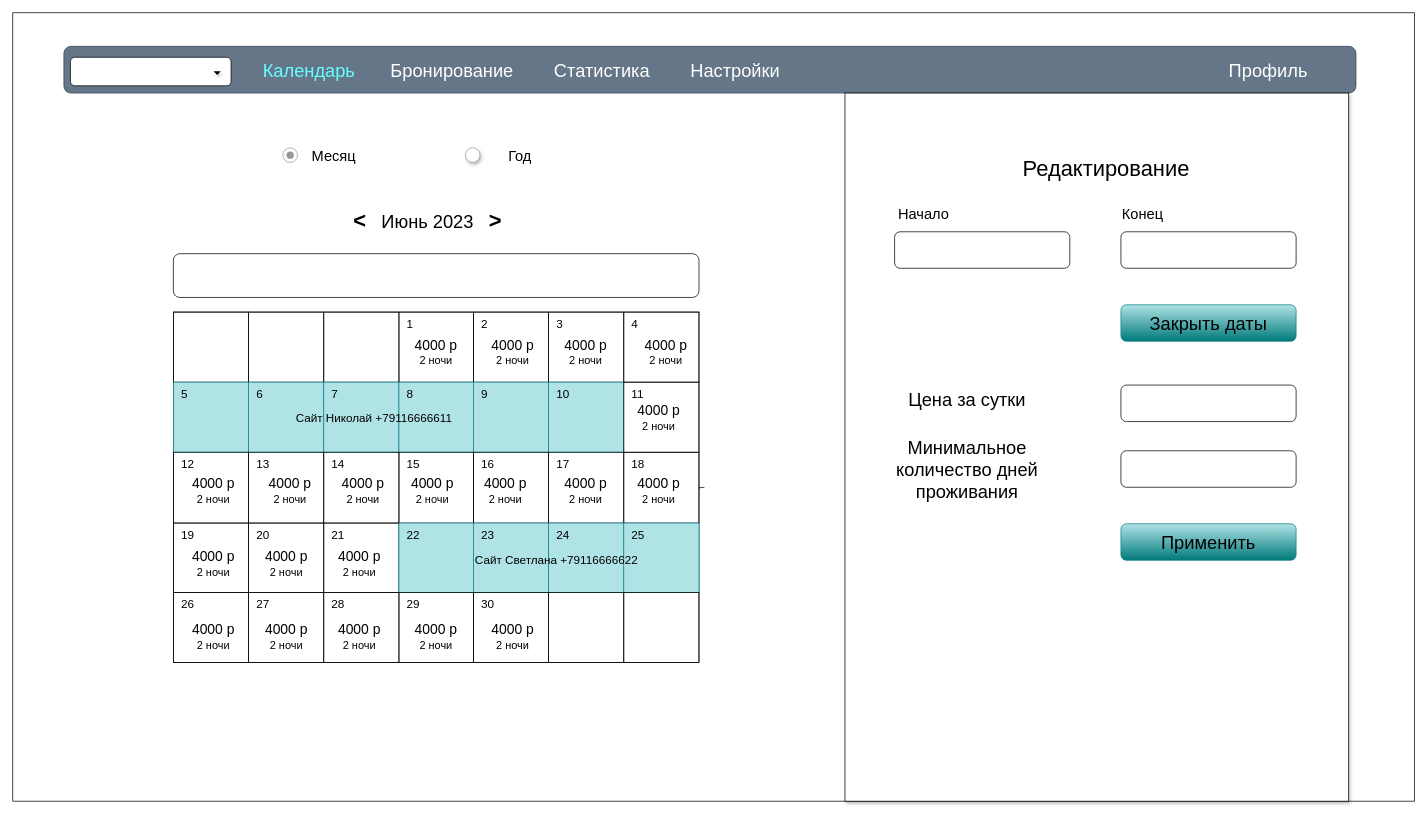
Image size: 1427x819. Some labels were removed from this diagram. Each missing label, with the centre of its shape:
"Объект №1" goes at point (150, 71).
"ПН ВТ СР ЧТ ПТ СБ ВС" goes at point (436, 275).
